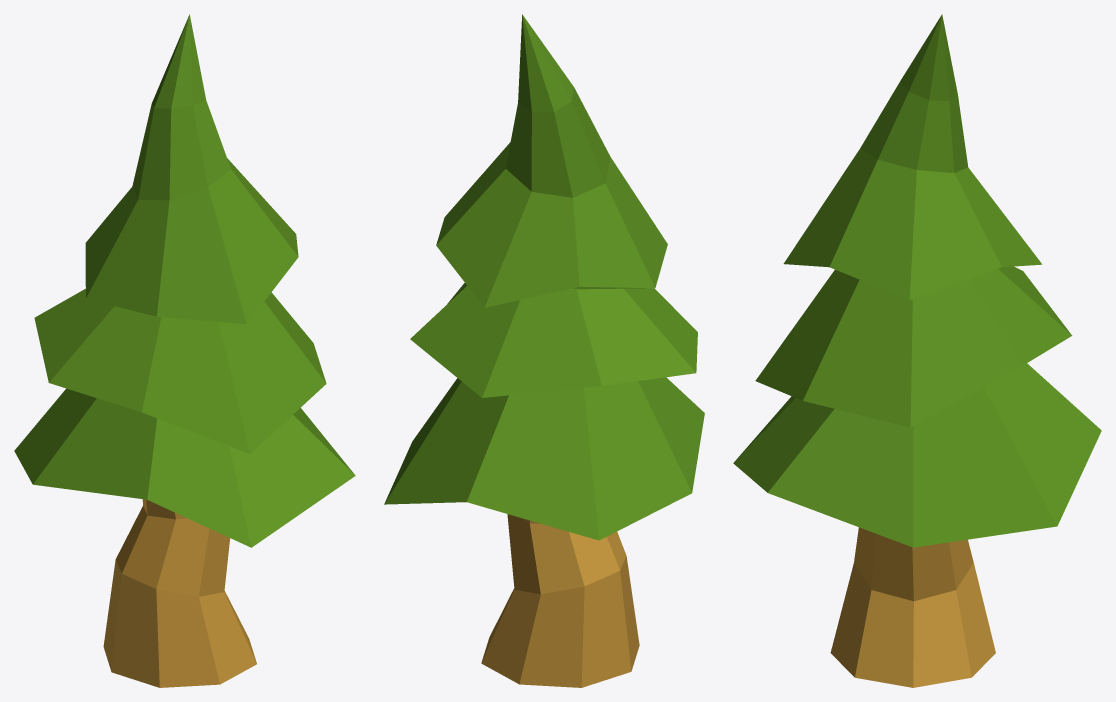
Rendered from tree_4.gltf.
3 renders of one model, left to right at view 1: azimuth 30°, elevation 25°; view 2: azimuth 150°, elevation 25°; view 3: azimuth 270°, elevation 25°, orthographic. The views are drawn at different scales.
Parts seen in each view (by area): view 1: Circle.001_Material.006_0, Circle.001_Material.005_0; view 2: Circle.001_Material.006_0, Circle.001_Material.005_0; view 3: Circle.001_Material.006_0, Circle.001_Material.005_0.
Part boxes in pixels (left/top/right/bottom): Circle.001_Material.006_0: left=14, top=14, right=355, bottom=547; Circle.001_Material.005_0: left=103, top=499, right=256, bottom=687; Circle.001_Material.006_0: left=384, top=14, right=704, bottom=540; Circle.001_Material.005_0: left=481, top=514, right=639, bottom=687; Circle.001_Material.006_0: left=733, top=14, right=1101, bottom=547; Circle.001_Material.005_0: left=830, top=527, right=995, bottom=687.
Bounding box in the file's own units: 4.66 × 9.89 × 5.08.
